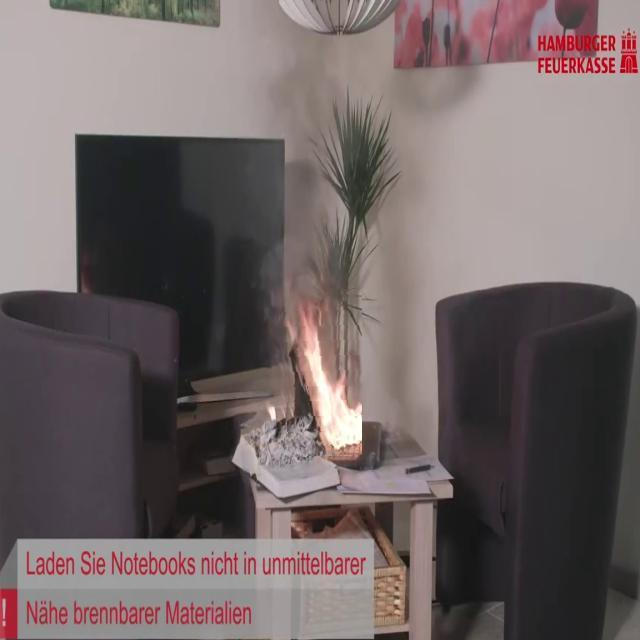smoke: (278, 289, 362, 457)
